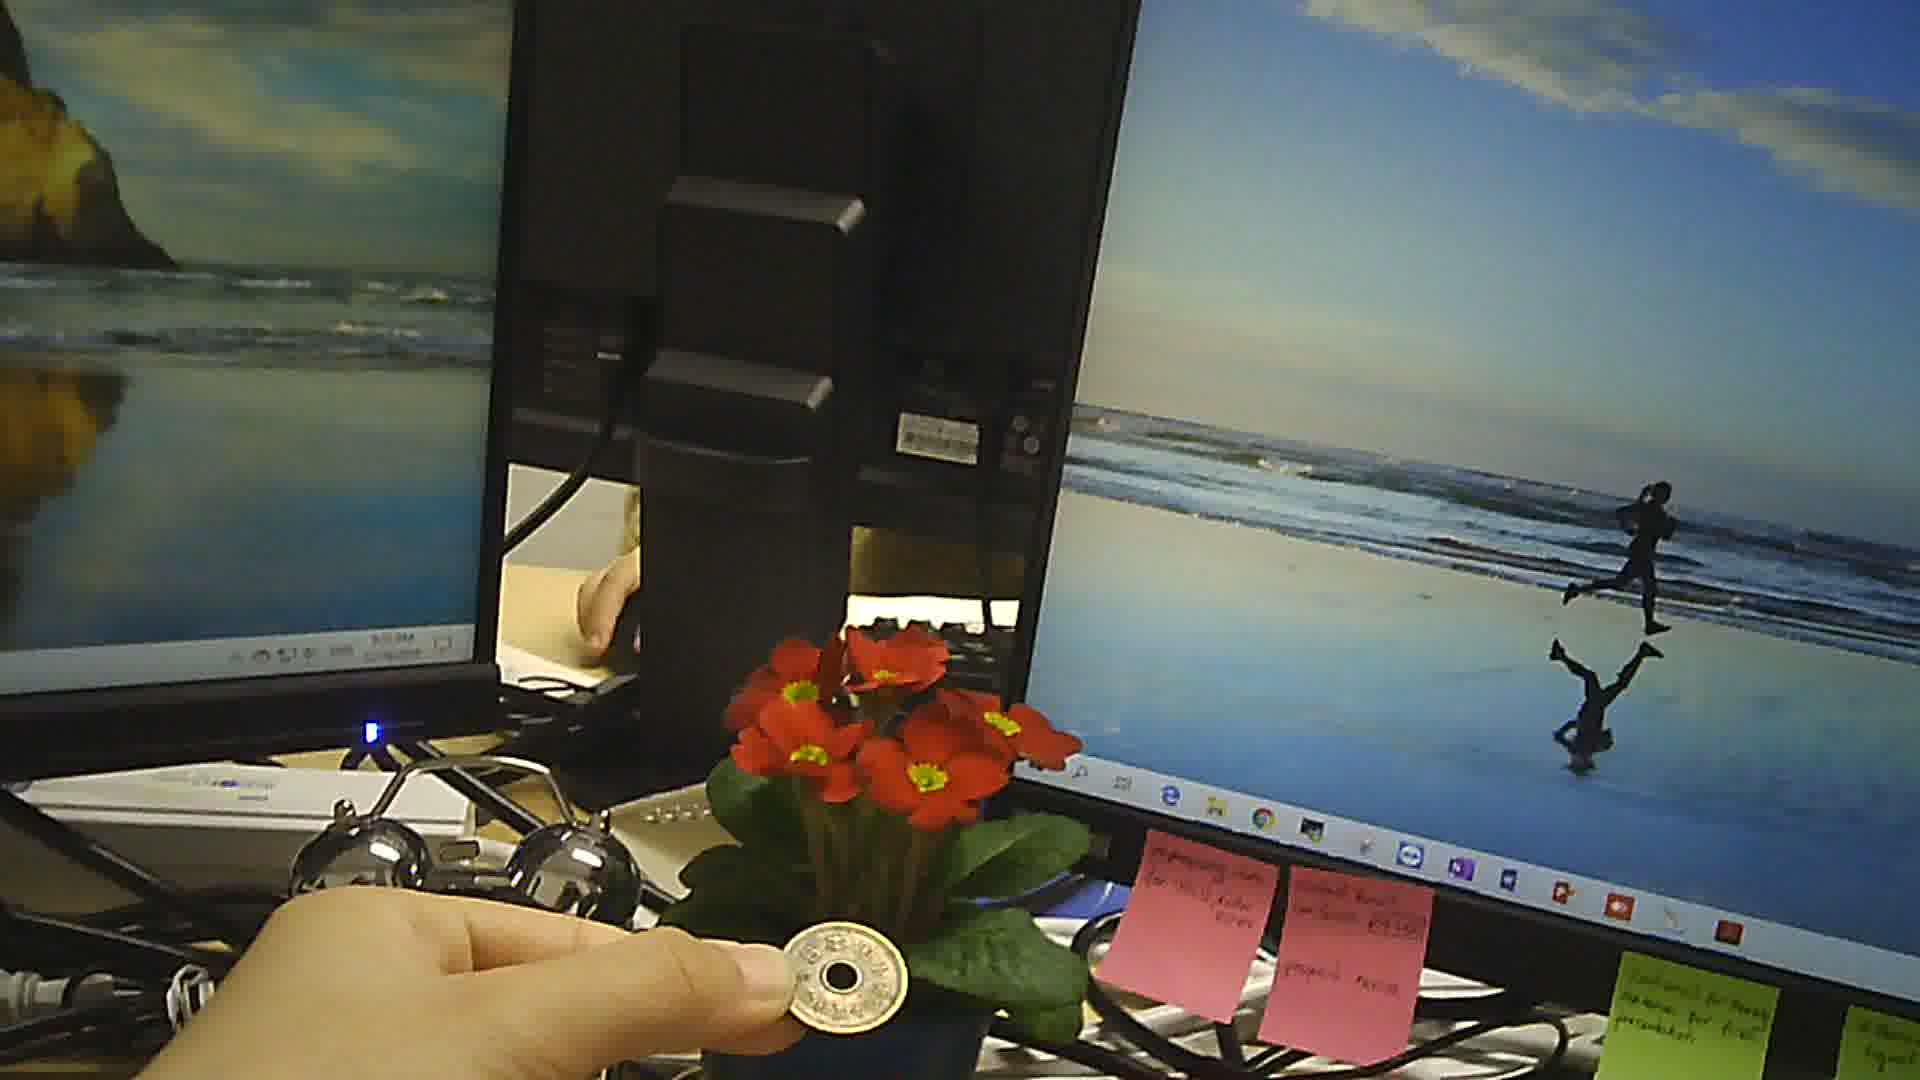5 Yen: (770, 909, 909, 1035)
